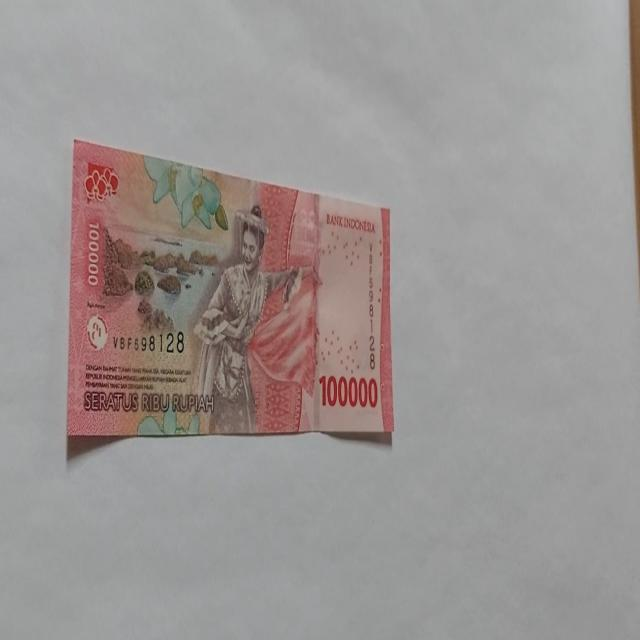seratus ribu rupiah: (67, 138, 394, 442), (189, 204, 314, 434)
